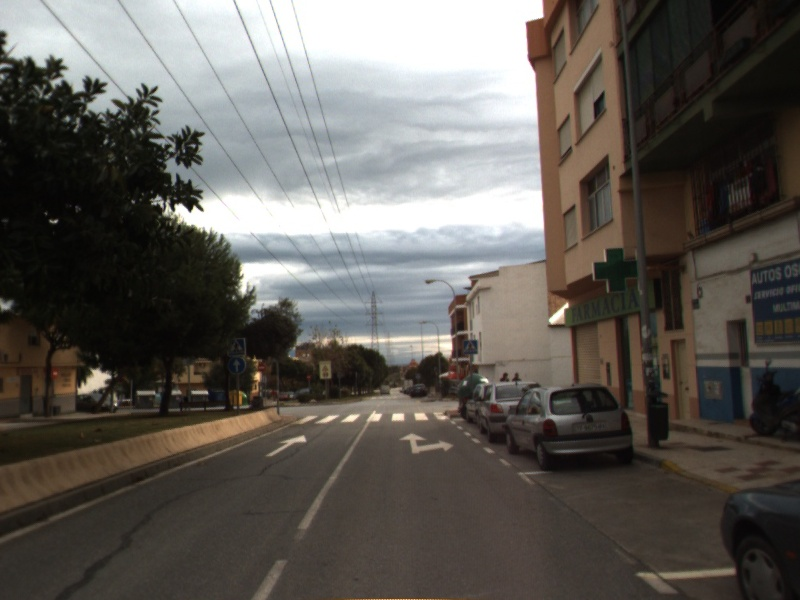STRAIGHT: (264, 433, 309, 458)
STRAIGHT_RIGHT: (397, 431, 456, 456)
